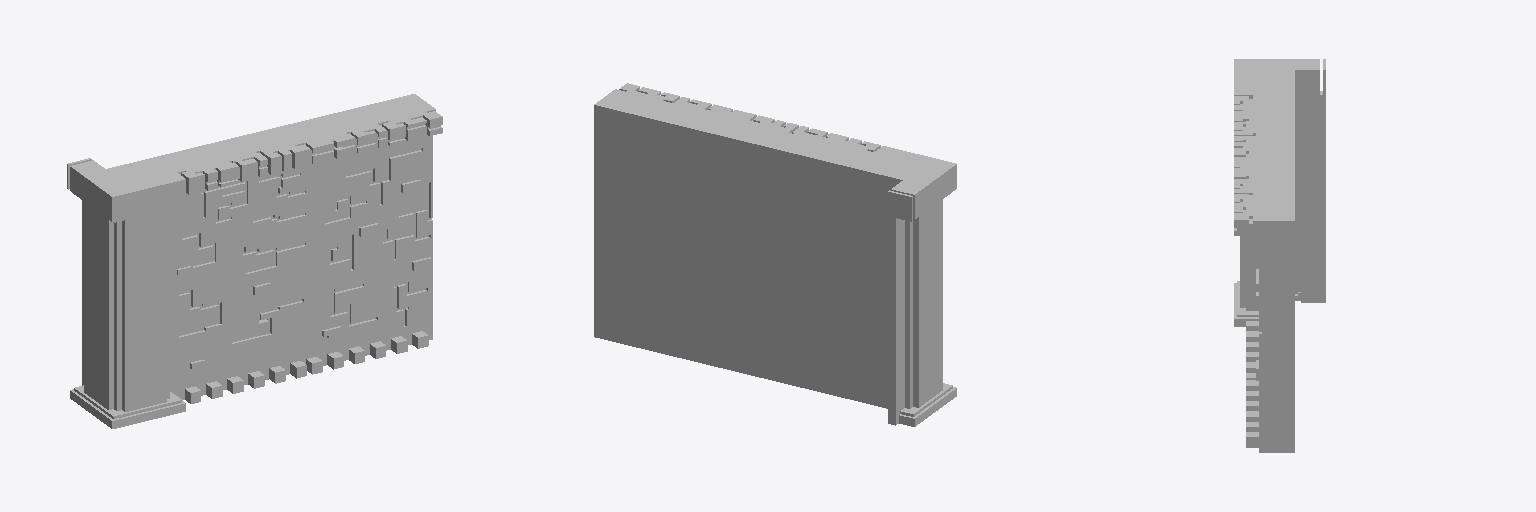
The model's file is Róg L.obj.
3 views of the same model, side by side, from view 1: azimuth 30°, elevation 25°; view 2: azimuth 150°, elevation 25°; view 3: azimuth 270°, elevation 25° (orthographic).
Parts seen in each view (by area): view 1: object 1; view 2: object 1; view 3: object 1.
Boxes of the visible parts, x1=… form: object 1: x1=67, y1=94, x2=442, y2=428; object 1: x1=594, y1=83, x2=956, y2=426; object 1: x1=1234, y1=59, x2=1325, y2=452.
Size of the model in its own units: 12.6 by 8.4 by 3.